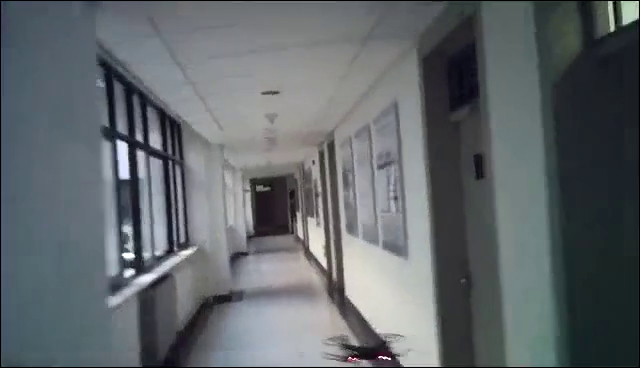drone: (320, 330, 413, 365)
